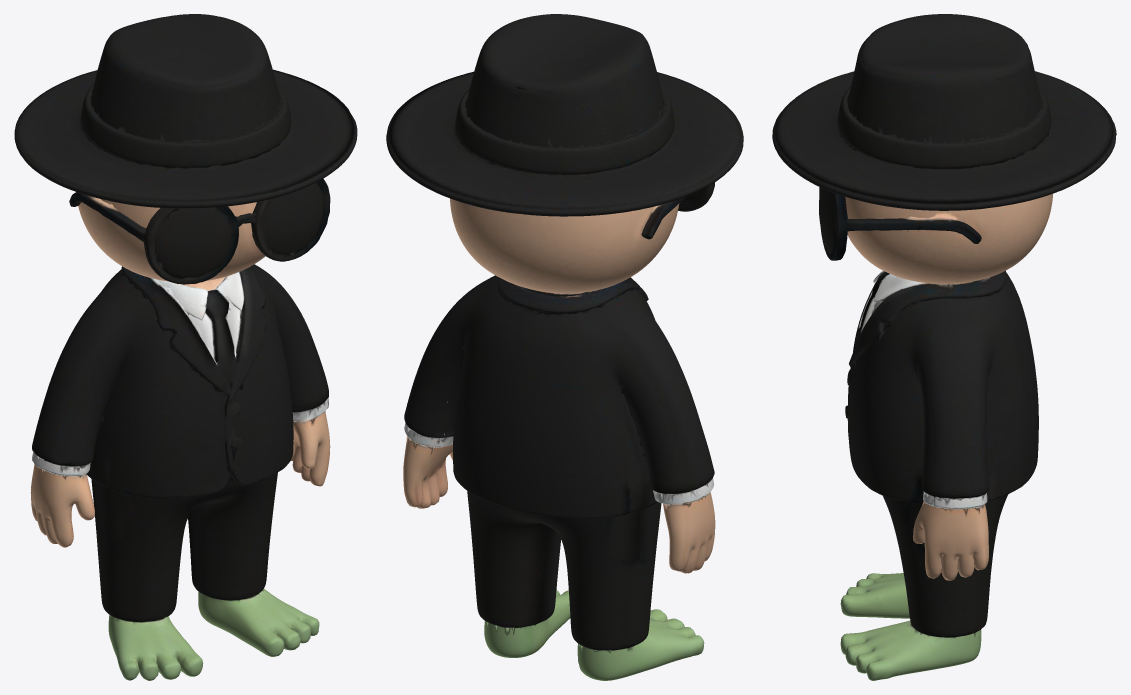
Rendered from mib.glb.
The picture shows the model from 3 angles, left to right: view 1: azimuth 30°, elevation 25°; view 2: azimuth 150°, elevation 25°; view 3: azimuth 270°, elevation 25°; orthographic projection. The views are drawn at different scales.
Parts seen in each view (by area): view 1: tripo_node_56f2a3a4-f876-40b8-9295-d8315f008c13; view 2: tripo_node_56f2a3a4-f876-40b8-9295-d8315f008c13; view 3: tripo_node_56f2a3a4-f876-40b8-9295-d8315f008c13.
Boxes of the visible parts, x1,y1,x2,y2 form: tripo_node_56f2a3a4-f876-40b8-9295-d8315f008c13: (14, 14, 357, 680); tripo_node_56f2a3a4-f876-40b8-9295-d8315f008c13: (386, 14, 743, 680); tripo_node_56f2a3a4-f876-40b8-9295-d8315f008c13: (772, 14, 1116, 680).
Bounding box in the file's own units: 0.5189 × 0.98 × 0.5156.
Materials: 1 (1 with a texture image).
